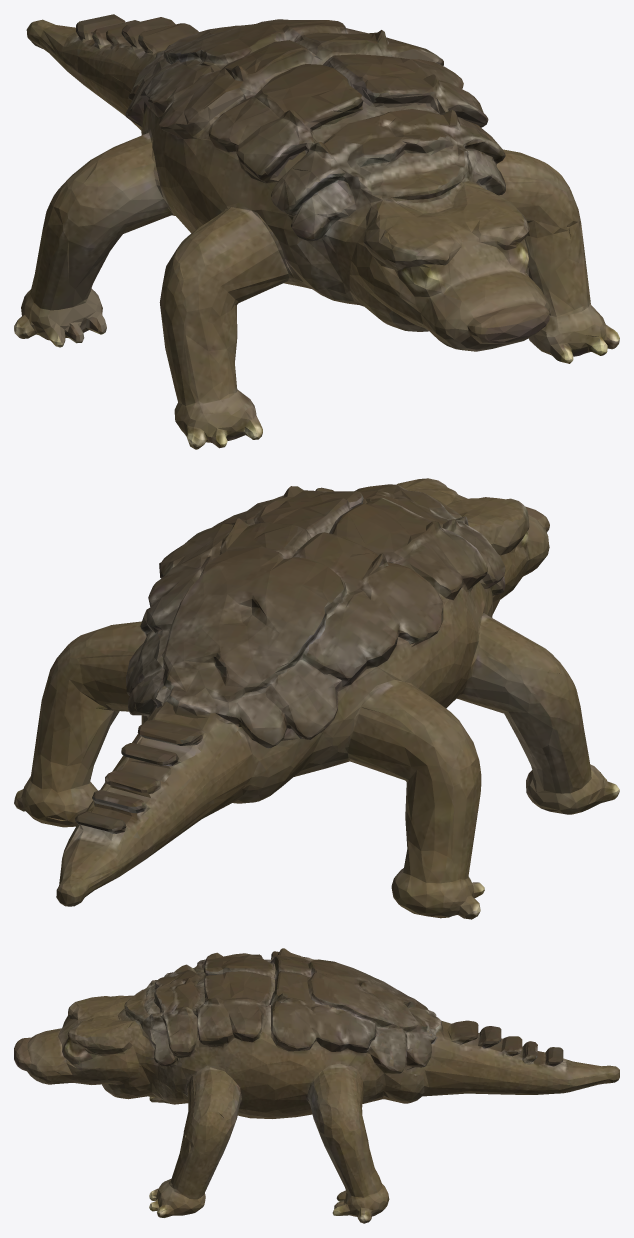
Rendered from creature-018.lod.glb.
The picture shows the model from 3 angles, top to bottom: view 1: azimuth 30°, elevation 25°; view 2: azimuth 150°, elevation 25°; view 3: azimuth 270°, elevation 25°; orthographic projection. The views are drawn at different scales.
Parts seen in each view (by area): view 1: tmpny4l5fot.ply; view 2: tmpny4l5fot.ply; view 3: tmpny4l5fot.ply.
Part boxes in pixels (<box>): tmpny4l5fot.ply: <box>14,14,619,449</box>; tmpny4l5fot.ply: <box>14,478,619,919</box>; tmpny4l5fot.ply: <box>14,948,619,1223</box>.
Size of the model in its own units: 1.14 by 0.6789 by 1.99.
Materials: 1 (1 with a texture image).
